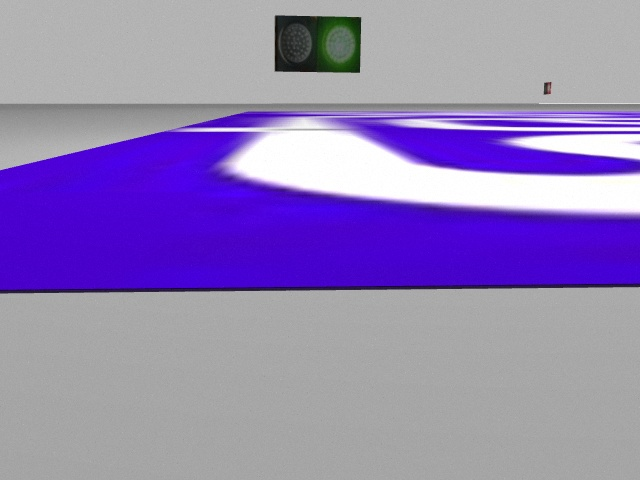green: (319, 17, 362, 72)
